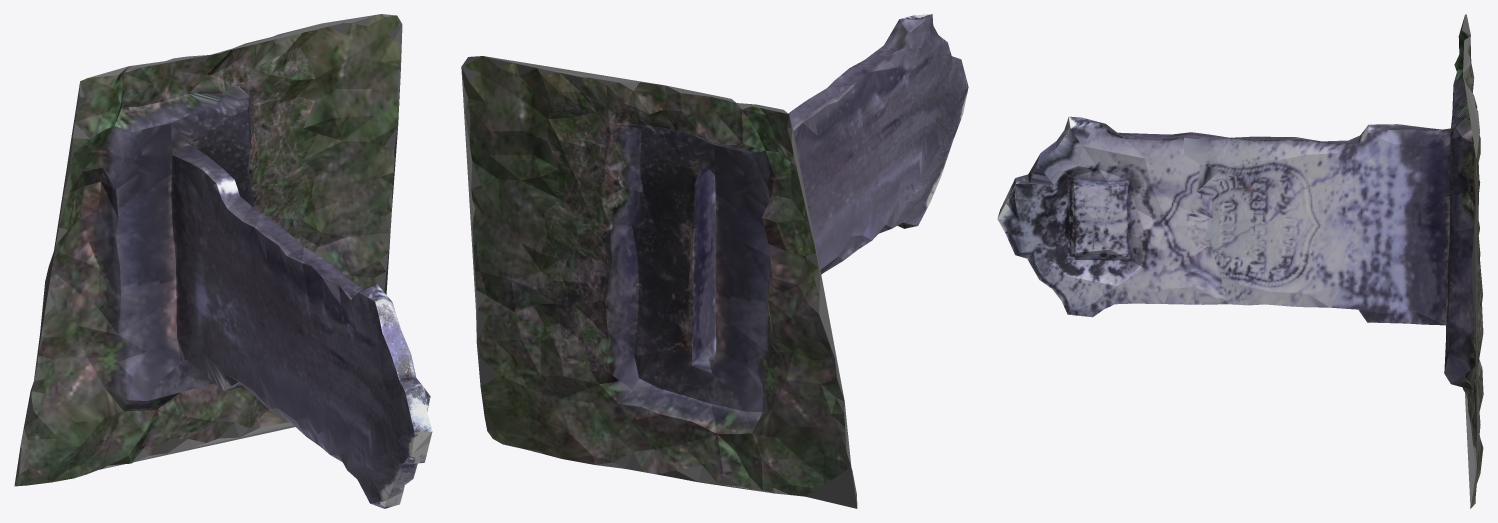
The model's file is gravestone2.dae.
The picture shows the model from 3 angles, left to right: view 1: azimuth 30°, elevation 25°; view 2: azimuth 150°, elevation 25°; view 3: azimuth 270°, elevation 25°; orthographic projection. The views are drawn at different scales.
Visible parts, largest first — view 1: node; view 2: node; view 3: node.
Part boxes in pixels (x1,y1,x2,y2): node: (14,14,432,508); node: (461,14,968,508); node: (997,14,1483,508).
Bounding box in the file's own units: 29.12 × 28.48 × 34.34.
1 material, 1 textured.
